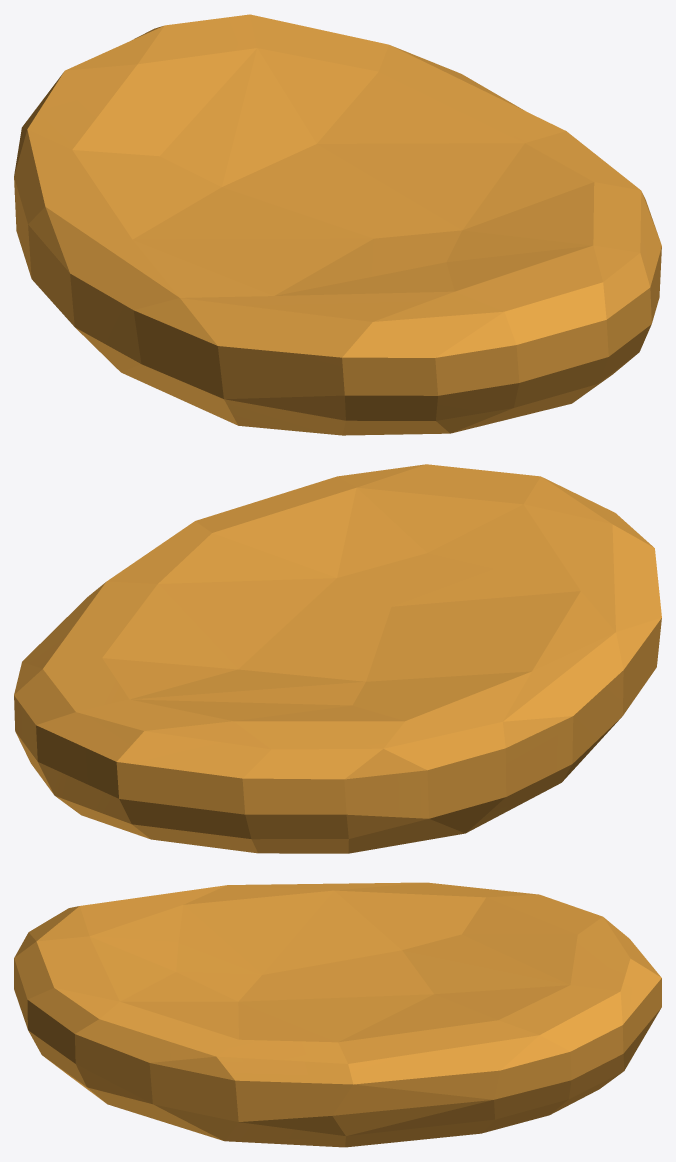
The model's file is bottomBun-transformed.glb.
The picture shows the model from 3 angles, top to bottom: view 1: azimuth 30°, elevation 25°; view 2: azimuth 150°, elevation 25°; view 3: azimuth 270°, elevation 25°; orthographic projection. The views are drawn at different scales.
Parts seen in each view (by area): view 1: bottomBun; view 2: bottomBun; view 3: bottomBun.
Part boxes in pixels (<box>): bottomBun: <box>14,14,661,435</box>; bottomBun: <box>14,464,661,853</box>; bottomBun: <box>14,882,661,1147</box>.
Size of the model in its own units: 1.16 by 0.3351 by 1.63.
